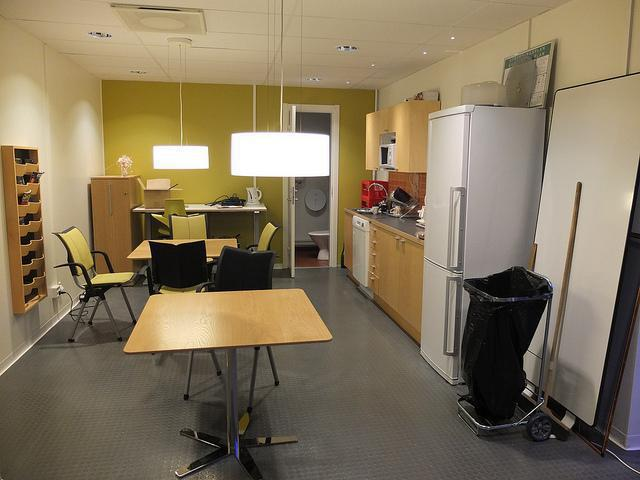Bote de Basura: (457, 272, 560, 438)
Lavaplatos: (354, 180, 414, 227)
